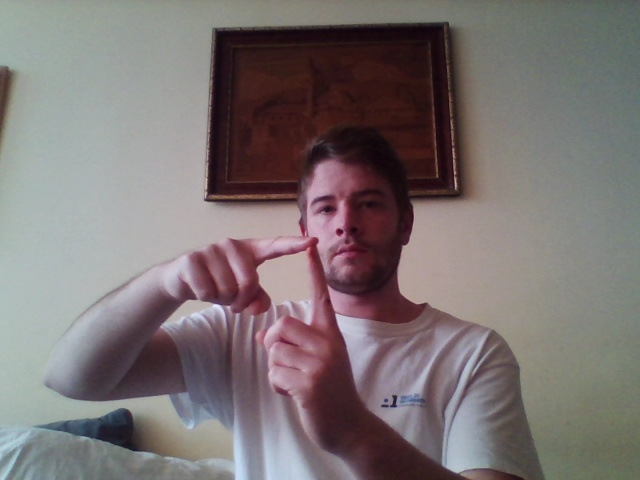kad: (166, 235, 367, 455)
